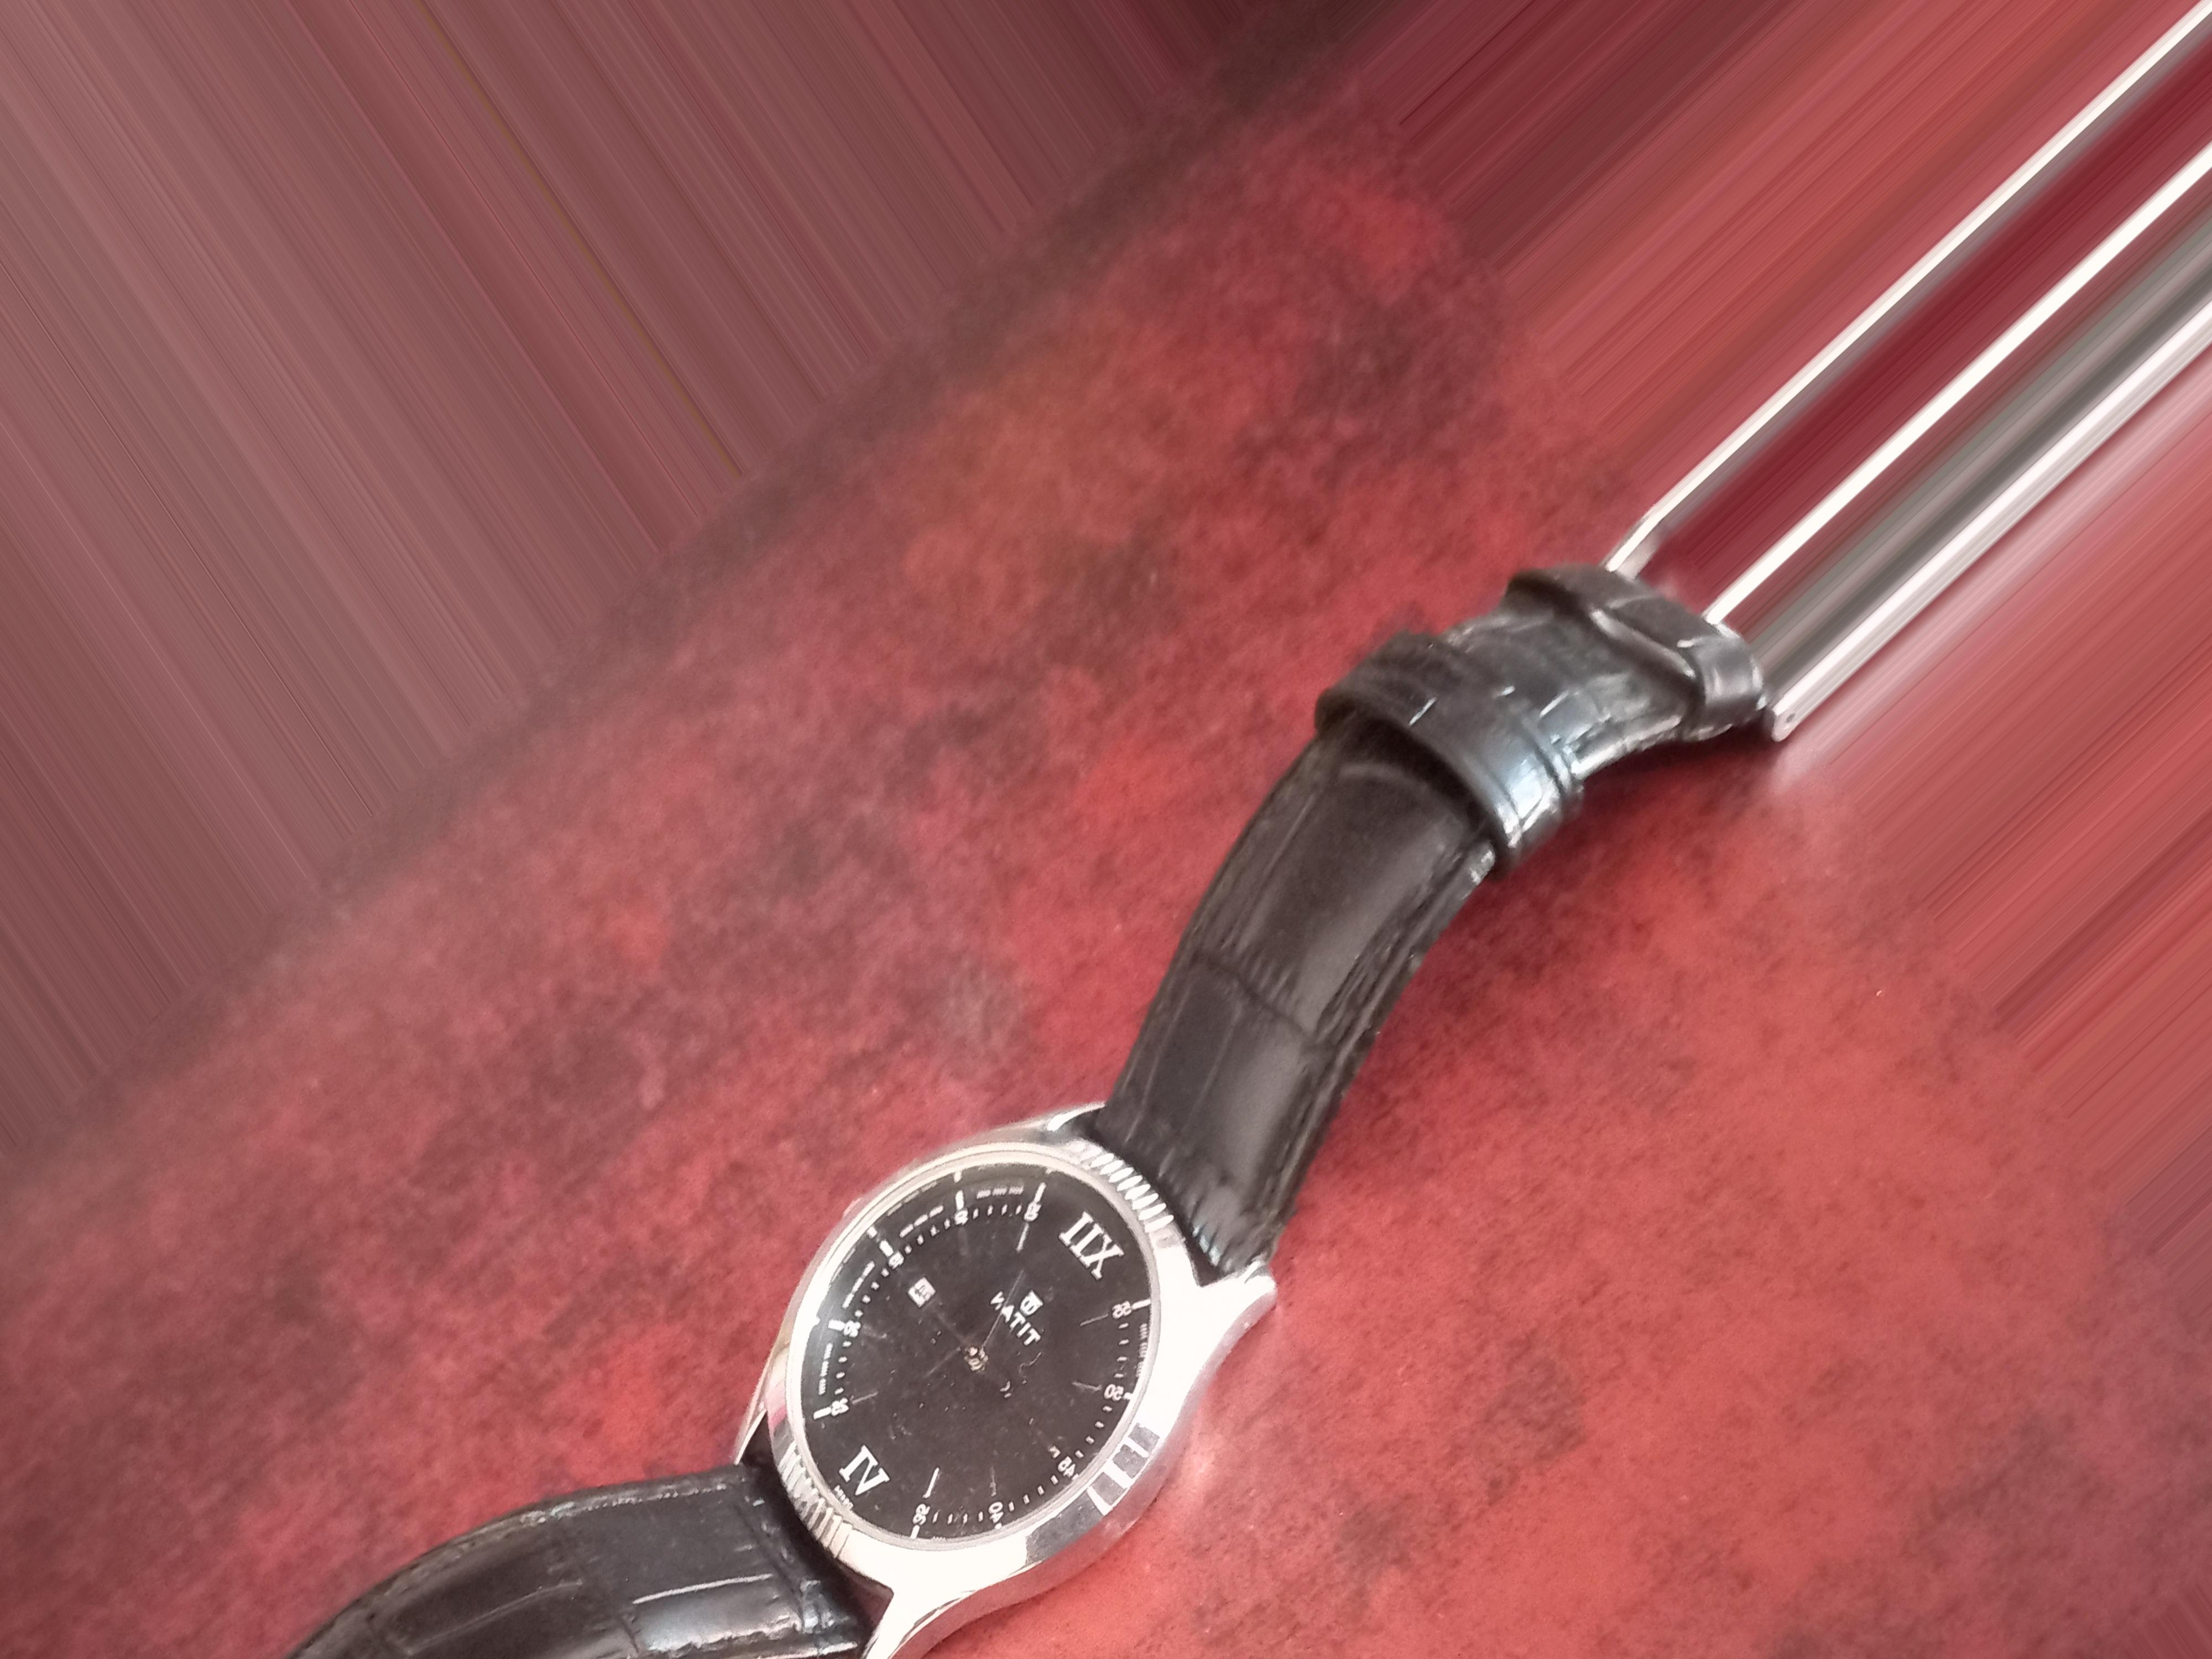watch: (495, 803, 1606, 1659)
